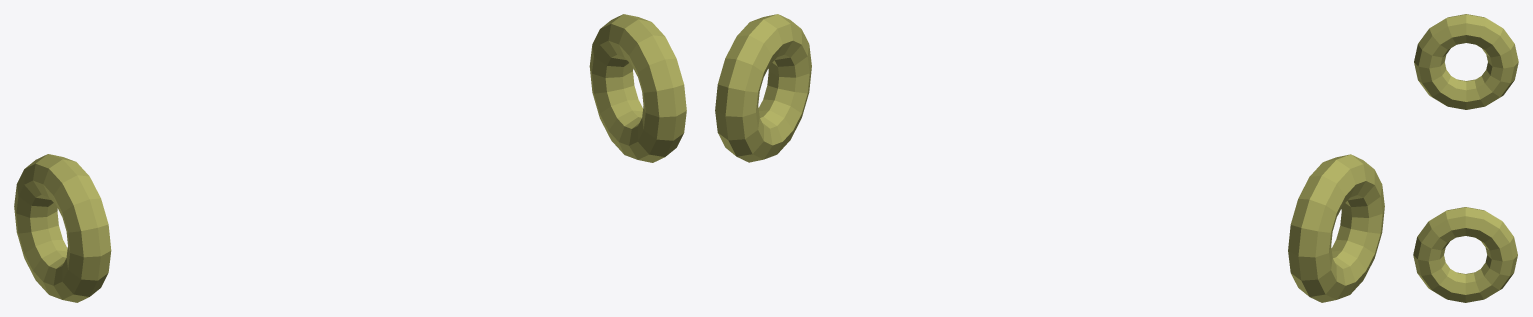
Rendered from string2.fbx.
The picture shows the model from 3 angles, left to right: view 1: azimuth 30°, elevation 25°; view 2: azimuth 150°, elevation 25°; view 3: azimuth 270°, elevation 25°; orthographic projection. The views are drawn at different scales.
Visible parts, largest first — view 1: 绳圈, 绳圈_2, 绳圈_1, 绳圈_1_2; view 2: 绳圈_1_2, 绳圈_1, 绳圈, 绳圈_2; view 3: 绳圈, 绳圈_2, 绳圈_1, 绳圈_1_2.
Part boxes in pixels (x1=…): 绳圈: x1=24, y1=154, x2=111, y2=296; 绳圈_2: x1=599, y1=14, x2=686, y2=156; 绳圈_1: x1=14, y1=169, x2=88, y2=302; 绳圈_1_2: x1=589, y1=29, x2=664, y2=162; 绳圈_1_2: x1=715, y1=58, x2=801, y2=162; 绳圈_1: x1=1288, y1=198, x2=1374, y2=302; 绳圈: x1=1298, y1=154, x2=1384, y2=257; 绳圈_2: x1=725, y1=14, x2=811, y2=117; 绳圈: x1=1414, y1=14, x2=1503, y2=97; 绳圈_2: x1=1413, y1=207, x2=1502, y2=289; 绳圈_1: x1=1430, y1=29, x2=1518, y2=109; 绳圈_1_2: x1=1430, y1=222, x2=1517, y2=302.
Size of the model in its own units: 158 by 34 by 34.24.
